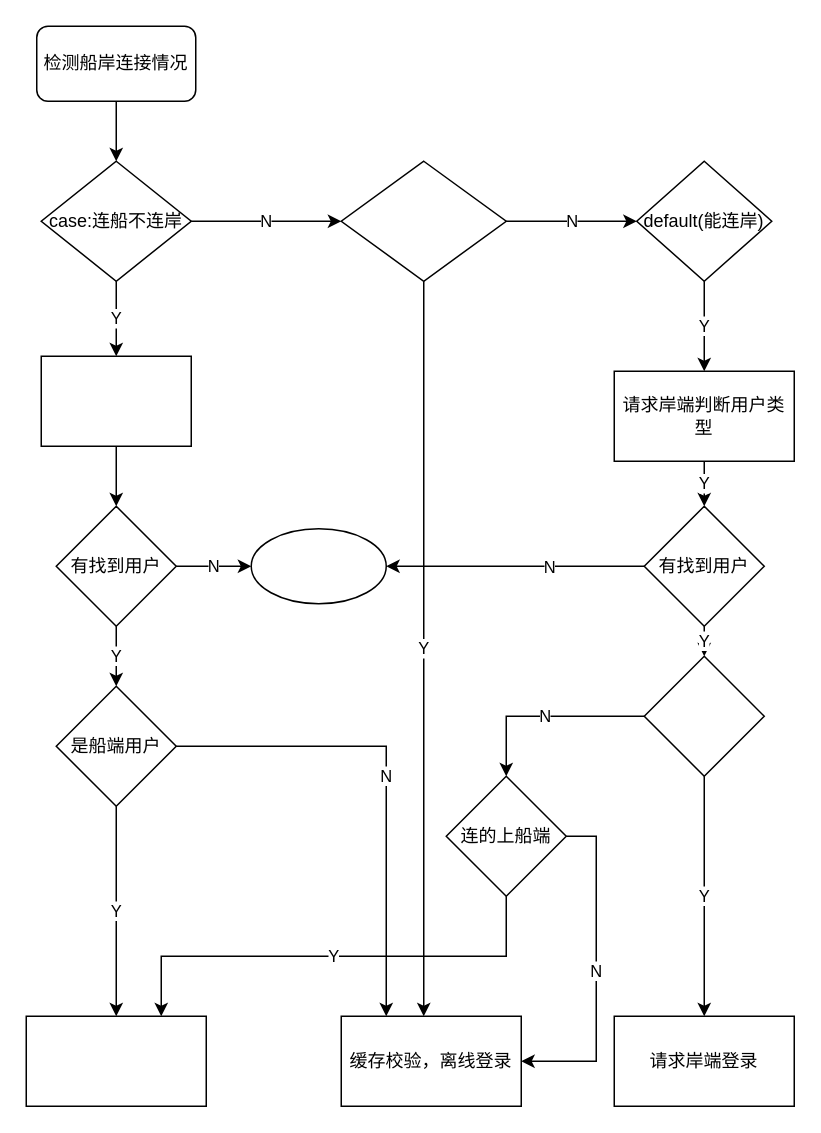
Some shapes in this 821 by 1133 pixel diagram are drawn without their labels. The centre of each missing label's shape, as x and y in pixels:
"case:都连不上" belongs at (x=423, y=220).
"密码错误" belongs at (x=318, y=565).
"是岸端用户" belongs at (x=703, y=715).
"请求船端判断用户类型" belongs at (x=115, y=400).
"请求船端登录" belongs at (x=115, y=1060).
